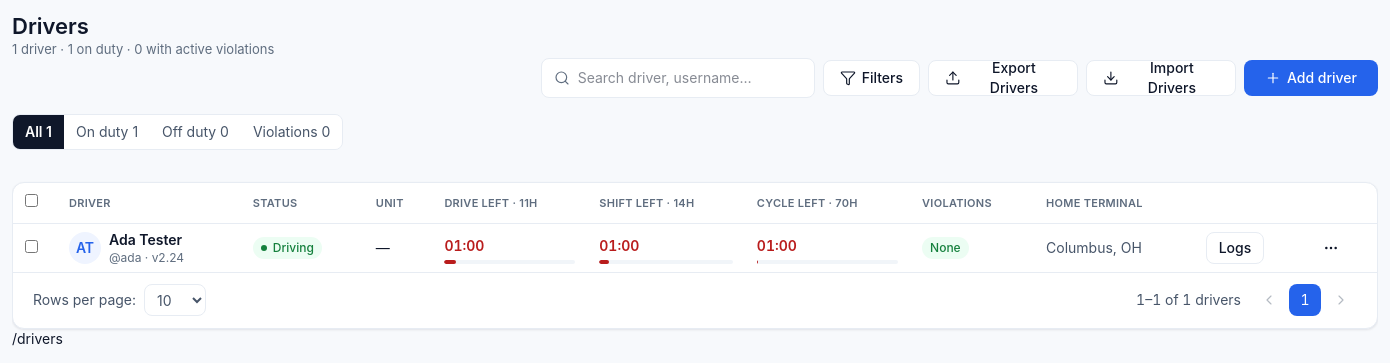
Test: W-06 Drivers › LIVE-023 · DRIVER and HOME TERMINAL sort the whole roster on the server; the sort lives in the URL
The image size is (1390, 363).
Click the button "DRIVER" at x=90, y=203, box x1=69 y1=195 x2=111 y2=211
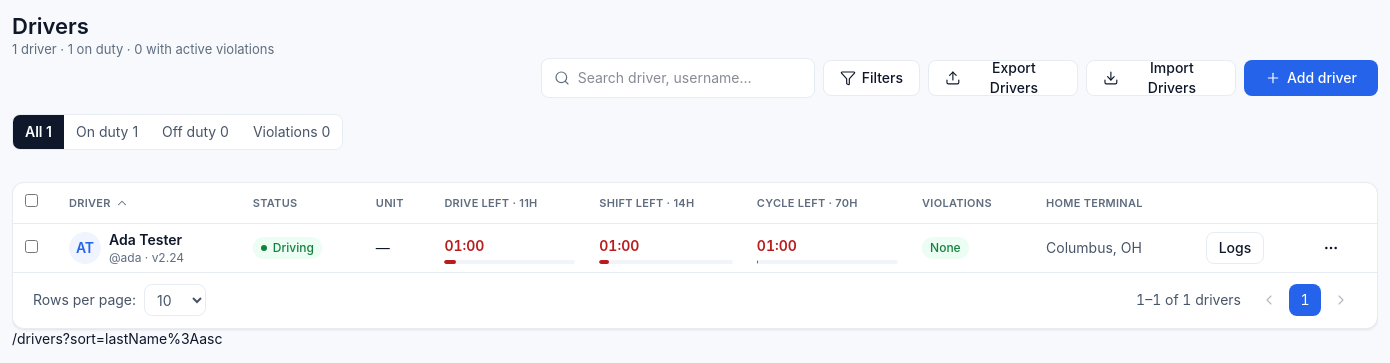
Check: the text with test id "location" shows "sort=lastName%3Aasc", box x1=12 y1=330 x2=222 y2=346
